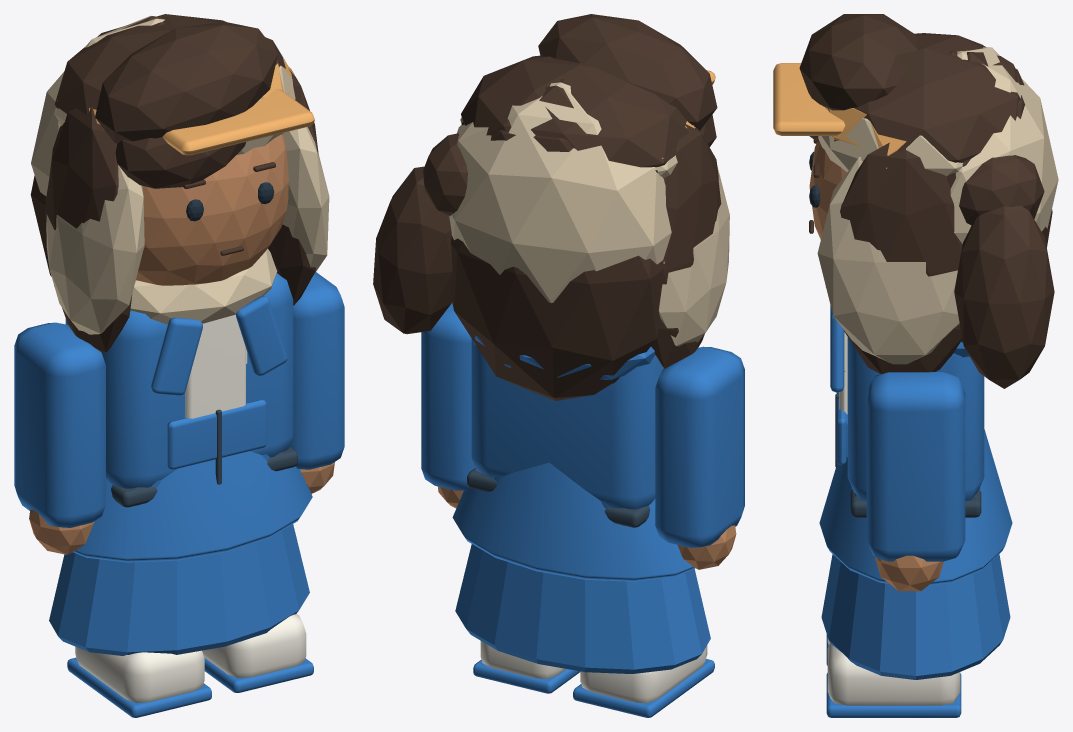
The model's file is avatar.glb.
3 views of the same model, side by side, from view 1: azimuth 30°, elevation 25°; view 2: azimuth 150°, elevation 25°; view 3: azimuth 270°, elevation 25° (orthographic). The views are drawn at different scales.
Parts seen in each view (by area): view 1: Look_female_hijab_Long_skirt, Look_female_hijab_Sleeve_L, Body_female_Skirt, Hair_quiff_sweep, Look_male_cap_Hoodie, Head, Hair_hijab_side, Look_female_hijab_Sleeve_R, Hair_long_side, Hair_hijab_neck, Hair_long_crown, Sneaker_L (+17 smaller); view 2: Hair_hijab_back, Look_female_hijab_Long_skirt, Hair_long_back, Look_male_cap_Hoodie, Body_female_Skirt, Look_female_hijab_Sleeve_L, Hair_long_crown, Hair_ponytail_tail, Hair_quiff_sweep, Look_female_hijab_Sleeve_R, Hair_long_side, Hair_hijab_side (+9 smaller); view 3: Look_female_hijab_Sleeve_R, Look_female_hijab_Long_skirt, Hair_ponytail_tail, Hair_hijab_side.001, Hair_long_side.001, Hair_long_crown, Hair_quiff_sweep, Body_female_Skirt, Look_male_cap_Hoodie, Hair_hijab_back, Sneaker_R, Hair_ponytail_tie (+9 smaller).
Boxes of the visible parts, bbox=[...] form: Look_female_hijab_Long_skirt: bbox=[49, 524, 309, 655]; Look_female_hijab_Sleeve_L: bbox=[14, 322, 105, 527]; Body_female_Skirt: bbox=[73, 451, 312, 562]; Hair_quiff_sweep: bbox=[95, 21, 277, 143]; Look_male_cap_Hoodie: bbox=[65, 273, 293, 488]; Head: bbox=[136, 134, 288, 285]; Hair_hijab_side: bbox=[46, 165, 144, 334]; Look_female_hijab_Sleeve_R: bbox=[289, 272, 344, 469]; Hair_long_side: bbox=[45, 105, 132, 353]; Hair_hijab_neck: bbox=[130, 248, 277, 324]; Hair_long_crown: bbox=[54, 14, 285, 115]; Sneaker_L: bbox=[75, 646, 204, 702]; Hair_hijab_back: bbox=[449, 82, 671, 303]; Look_female_hijab_Long_skirt: bbox=[455, 544, 710, 673]; Hair_long_back: bbox=[451, 85, 664, 400]; Look_male_cap_Hoodie: bbox=[471, 339, 663, 509]; Body_female_Skirt: bbox=[452, 462, 695, 581]; Look_female_hijab_Sleeve_L: bbox=[655, 346, 744, 547]; Hair_long_crown: bbox=[461, 55, 689, 167]; Hair_ponytail_tail: bbox=[373, 166, 452, 334]; Hair_quiff_sweep: bbox=[538, 14, 717, 130]; Look_female_hijab_Sleeve_R: bbox=[421, 302, 475, 490]; Hair_long_side: bbox=[651, 123, 721, 368]; Hair_hijab_side: bbox=[658, 155, 729, 346]; Look_female_hijab_Sleeve_R: bbox=[866, 371, 965, 561]; Look_female_hijab_Long_skirt: bbox=[821, 554, 1010, 679]; Hair_ponytail_tail: bbox=[954, 205, 1054, 388]; Hair_hijab_side.001: bbox=[817, 157, 959, 364]; Hair_long_side.001: bbox=[840, 142, 962, 374]; Hair_long_crown: bbox=[834, 33, 1020, 162]; Hair_quiff_sweep: bbox=[799, 14, 917, 110]; Body_female_Skirt: bbox=[819, 429, 1012, 585]; Look_male_cap_Hoodie: bbox=[847, 337, 984, 501]; Hair_hijab_back: bbox=[950, 47, 1058, 243]; Sneaker_R: bbox=[827, 643, 960, 705]; Hair_ponytail_tie: bbox=[959, 155, 1044, 225].
Size of the model in its own units: 0.889 by 1.78 by 0.71.
